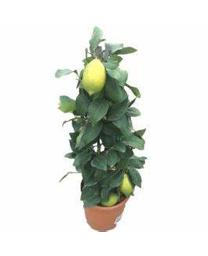lemon: (82, 61, 106, 93)
